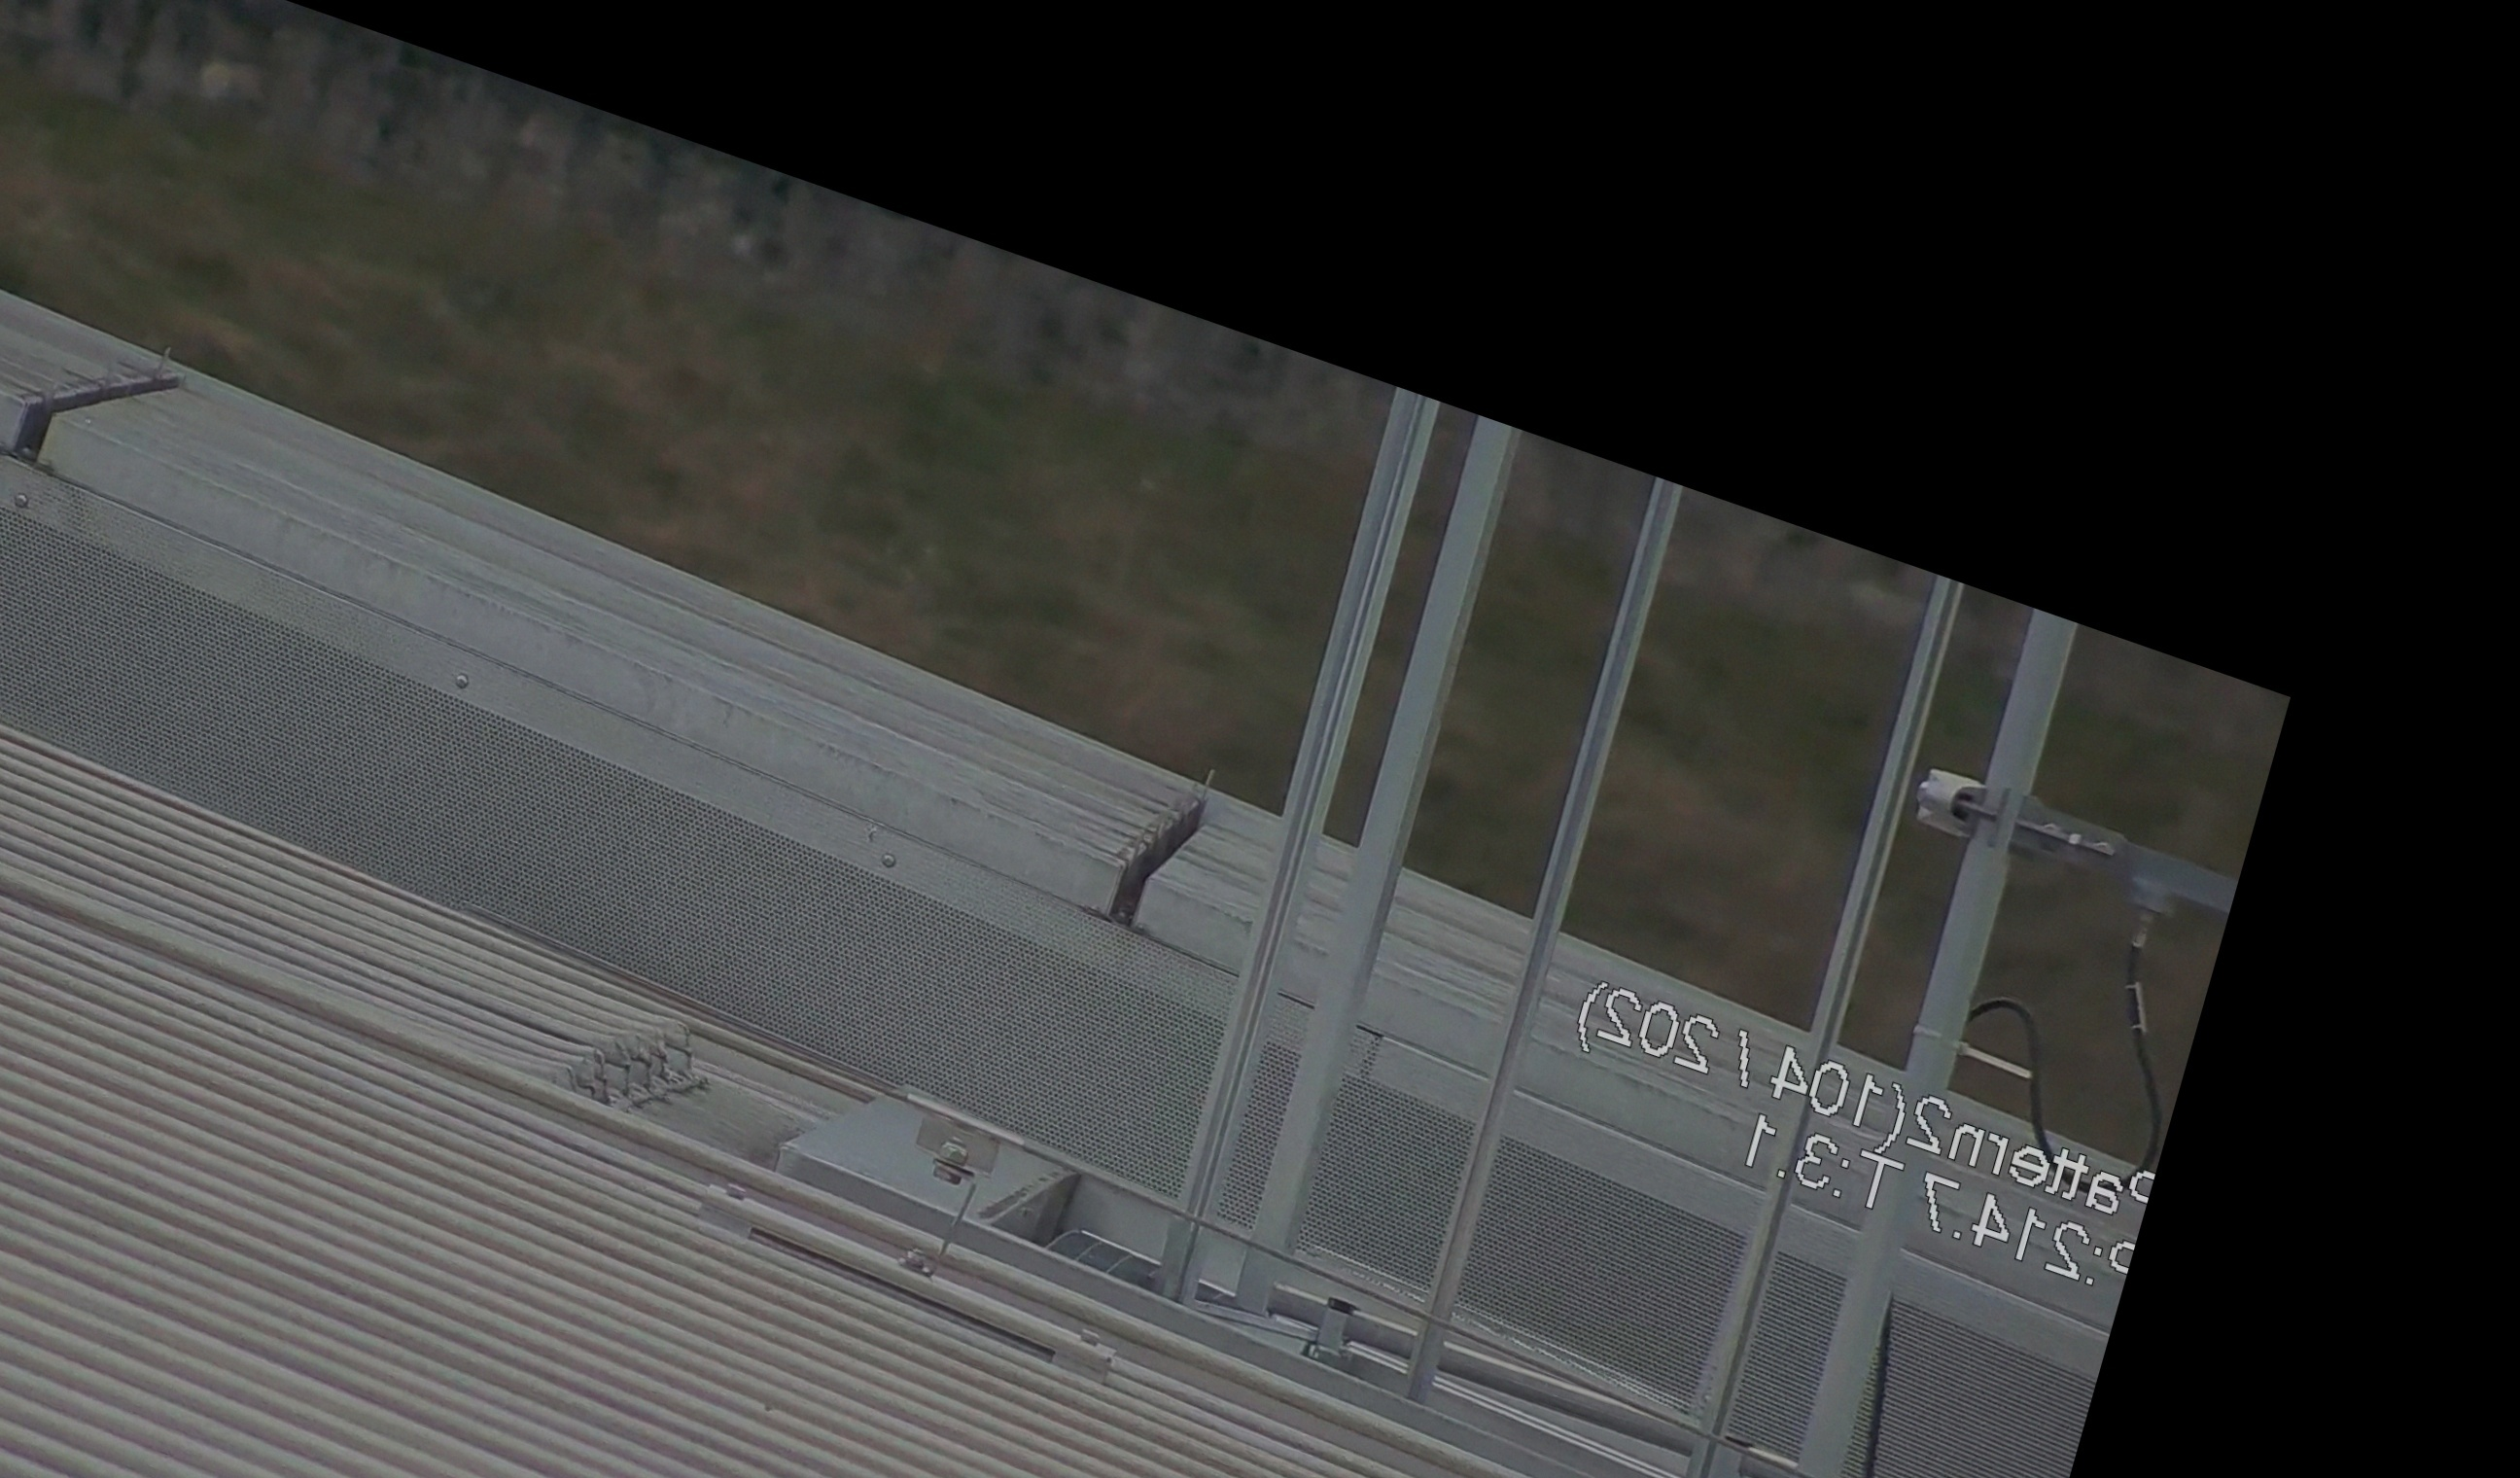Other: (1082, 732, 1245, 948)
